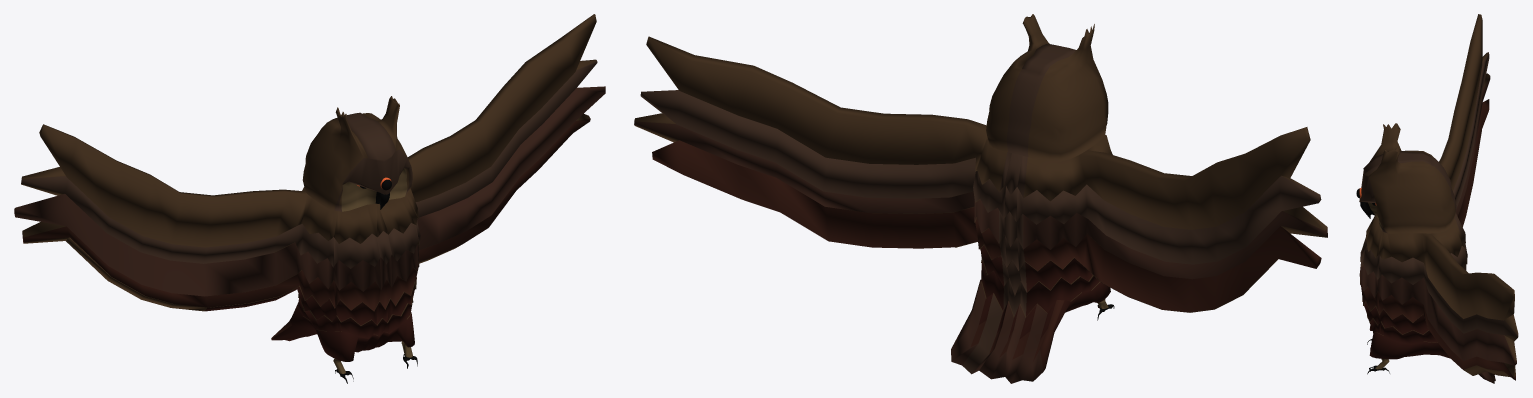
The model's file is Owl1.fbx.
3 renders of one model, left to right at view 1: azimuth 30°, elevation 25°; view 2: azimuth 150°, elevation 25°; view 3: azimuth 270°, elevation 25°, orthographic. The views are drawn at different scales.
Visible parts, largest first — view 1: Owl; view 2: Owl; view 3: Owl.
Part boxes in pixels (left/top/right/bottom): Owl: left=14, top=14, right=605, bottom=383; Owl: left=634, top=14, right=1327, bottom=383; Owl: left=1359, top=14, right=1518, bottom=383.
Bounding box in the file's own units: 882 × 397 × 238.
